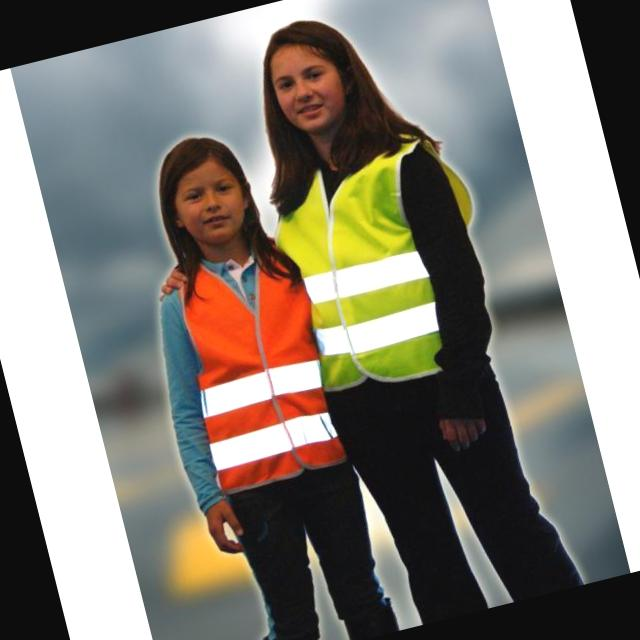vest: (164, 235, 349, 490), (270, 147, 451, 392)
